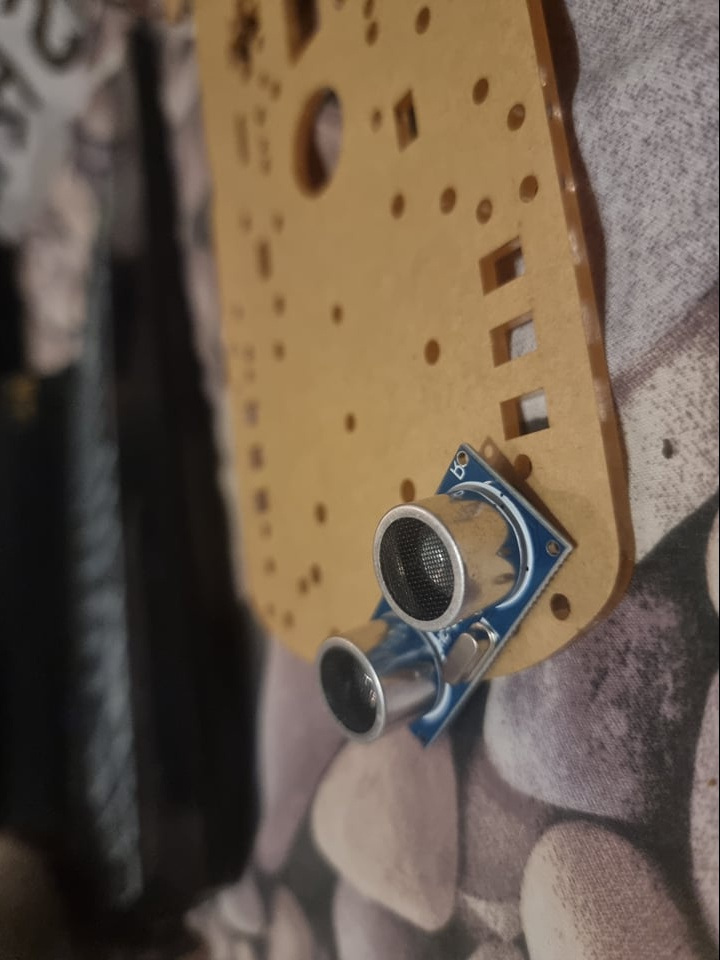SENSOR: (319, 442, 579, 751)
